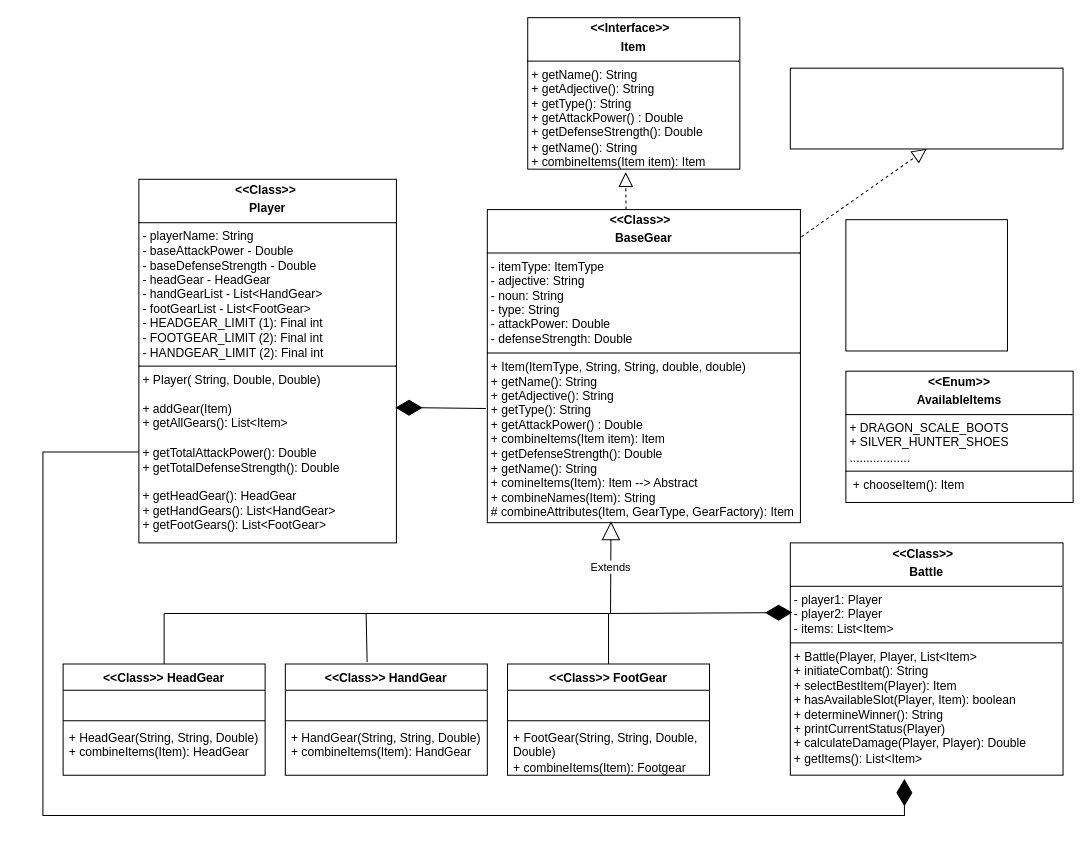
Some shapes in this 1091 by 860 pixel diagram are drawn without their labels. The shapes that lost their labels are listed below. From the top down, each one's centre as x and y in pixels, then its label:
[926,108]: <<Interface>> GearFactory + createItem(String, String, Double, Double): Item
[926,285]: <<Enum>> GearType + HEADGEAR + HANDGEAR + FOOTGEAR
